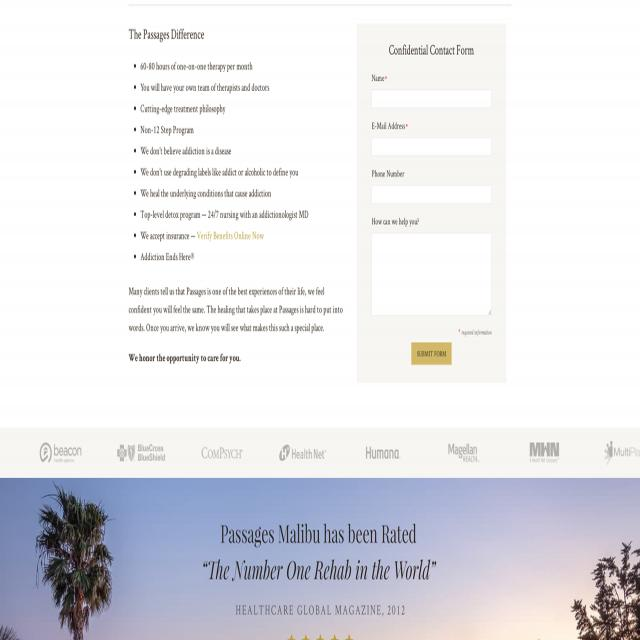button: (268, 434, 329, 473), (432, 431, 492, 470), (188, 434, 248, 473), (508, 432, 569, 470), (31, 434, 92, 472), (106, 434, 166, 472), (352, 434, 412, 472), (601, 429, 640, 468), (412, 342, 452, 365)
field: (371, 232, 492, 317), (372, 89, 492, 108), (372, 137, 492, 156), (372, 185, 492, 204)
